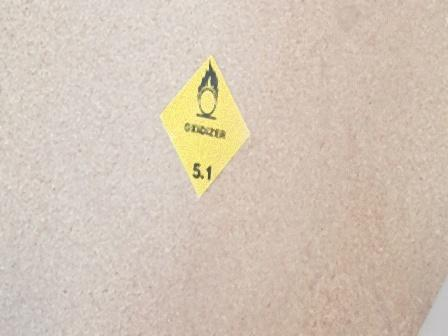oxidizer: (158, 53, 251, 201)
